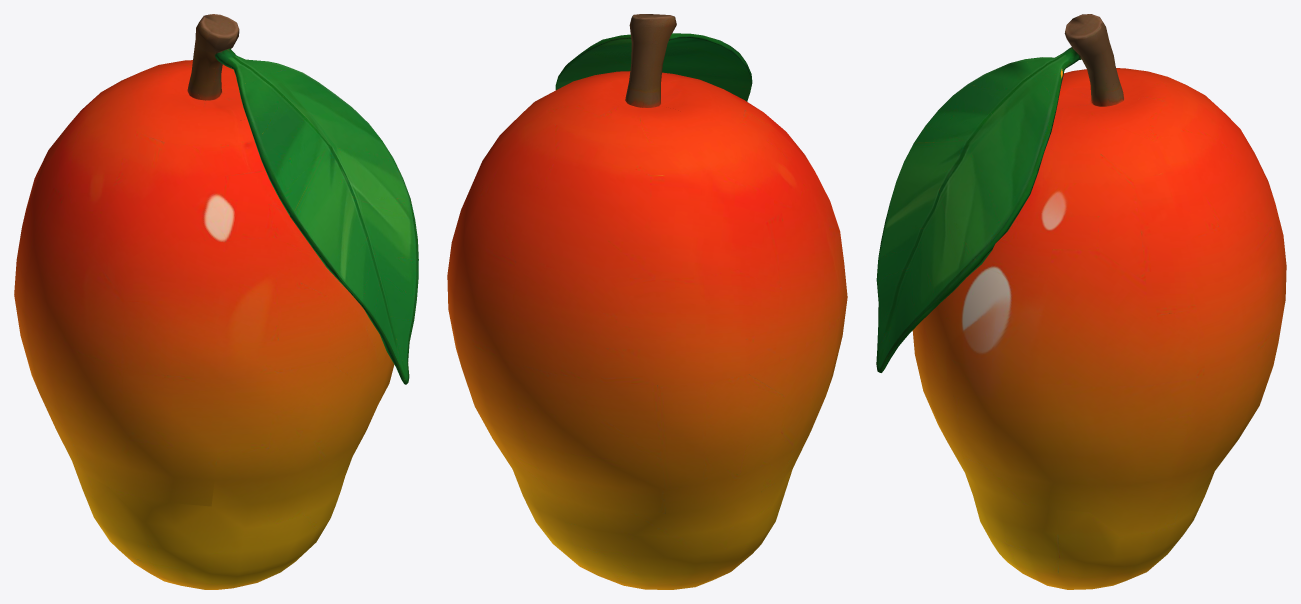
File: Mango.fbx
The picture shows the model from 3 angles, left to right: view 1: azimuth 30°, elevation 25°; view 2: azimuth 150°, elevation 25°; view 3: azimuth 270°, elevation 25°; orthographic projection.
Parts seen in each view (by area): view 1: Mango; view 2: Mango; view 3: Mango.
Part boxes in pixels (x1,y1,x2,y2): Mango: [14, 14, 418, 589]; Mango: [447, 14, 847, 589]; Mango: [876, 14, 1286, 589].
Bounding box in the file's own units: 0.3145 × 0.5 × 0.3363.
1 material, 1 textured.
